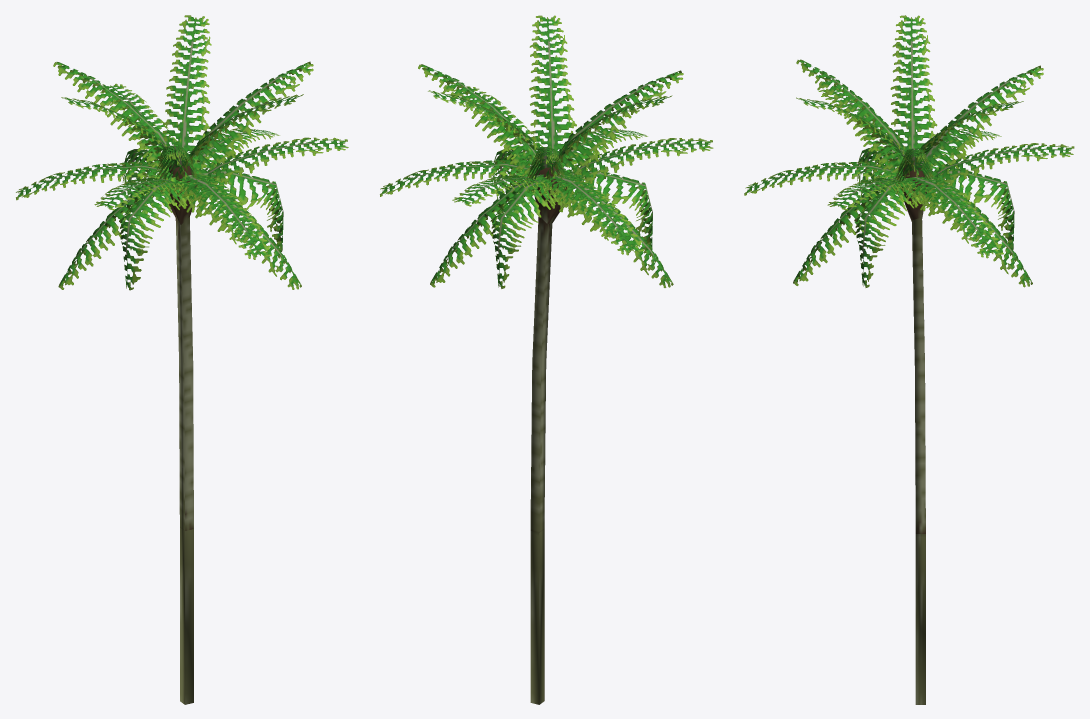
File: palm_tree_3_1.dae
3 views of the same model, side by side, from view 1: azimuth 30°, elevation 25°; view 2: azimuth 150°, elevation 25°; view 3: azimuth 270°, elevation 25° (orthographic).
Visible parts, largest first — view 1: Plane.028; view 2: Plane.028; view 3: Plane.028.
Boxes of the visible parts, x1,y1,x2,y2 form: Plane.028: (16, 15, 348, 704); Plane.028: (380, 15, 713, 704); Plane.028: (744, 15, 1074, 704).
Bounding box in the file's own units: 0.6314 × 0.6747 × 1.4.
1 material, 1 textured.
